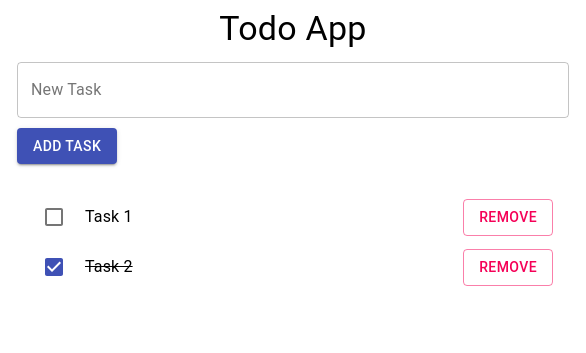
it: TodoApp › adds a new task
Expected: the text "Task 1" is shown, [85,205,133,229]
In the field: (293, 90) [17,62,569,118], type "New Task 3"
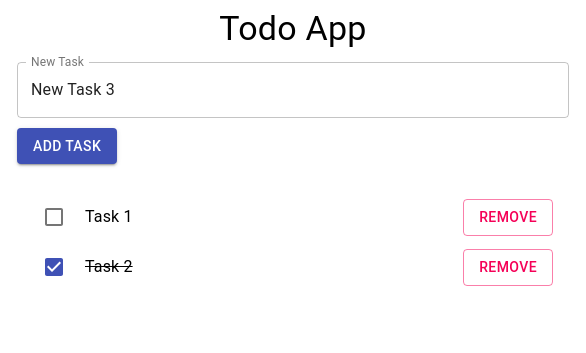
Click the button with test id "add-task": (67, 146) [17,128,117,164]
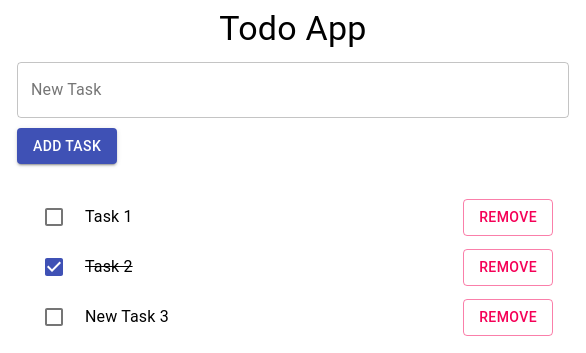
Result: the text "New Task 3" is shown at [85,305,169,329]
